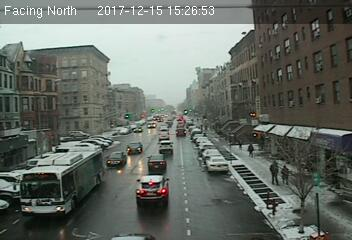bus: (20, 147, 103, 215)
car: (136, 175, 169, 205), (204, 156, 230, 174), (105, 151, 127, 168), (146, 154, 167, 171), (158, 140, 174, 152), (126, 142, 143, 153), (175, 128, 187, 136), (158, 132, 169, 140)
pedestrian: (269, 159, 281, 185), (281, 162, 291, 187), (247, 141, 257, 159)
